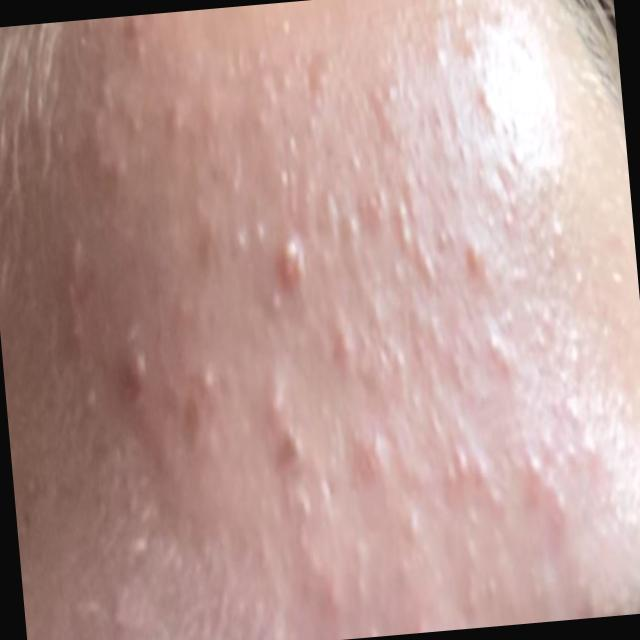fungal: (81, 6, 561, 640)
